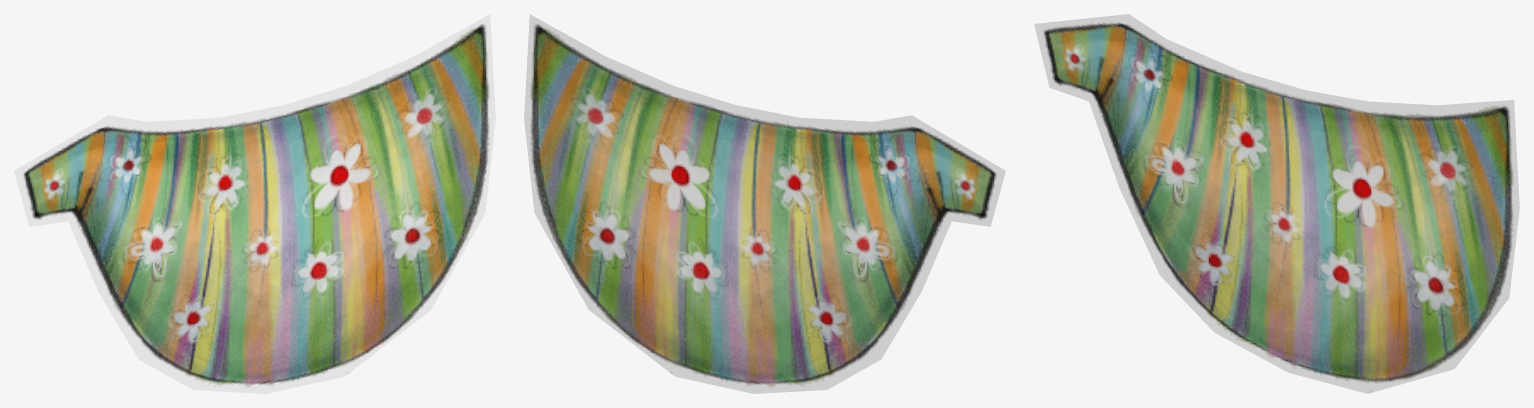
3 renders of one model, left to right at view 1: azimuth 30°, elevation 25°; view 2: azimuth 150°, elevation 25°; view 3: azimuth 330°, elevation 25°, orthographic.
Parts seen in each view (by area): view 1: Plane; view 2: Plane; view 3: Plane.
Part boxes in pixels (x1,y1,x2,y2): Plane: (14, 14, 495, 393); Plane: (524, 14, 1005, 393); Plane: (1034, 14, 1519, 393).
Bounding box in the file's own units: 4.25 × 2.76 × 0.
1 material, 1 textured.
